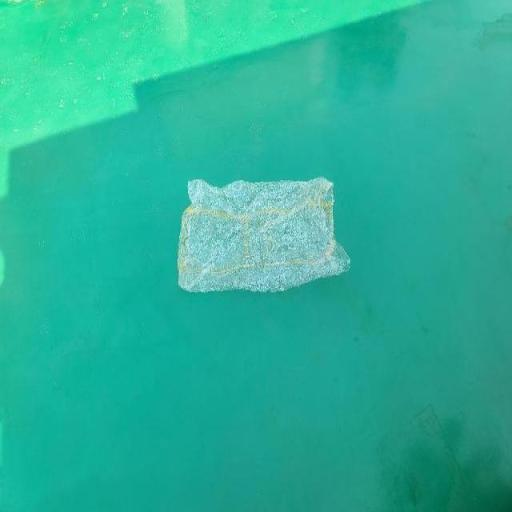plastic-bag: (176, 176, 354, 294)
